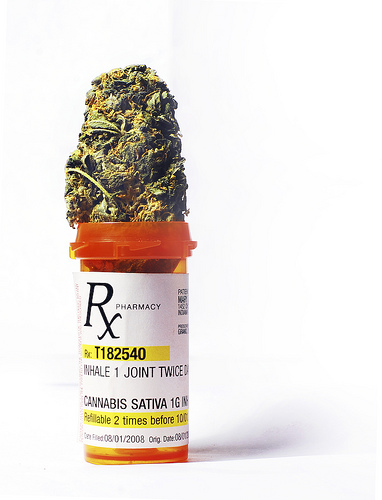pill bottle: (70, 220, 199, 467)
